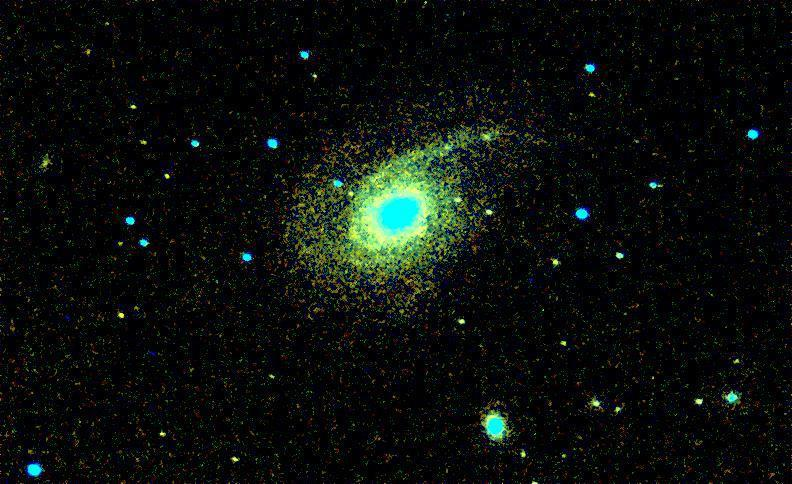star: (105, 299, 135, 329)
